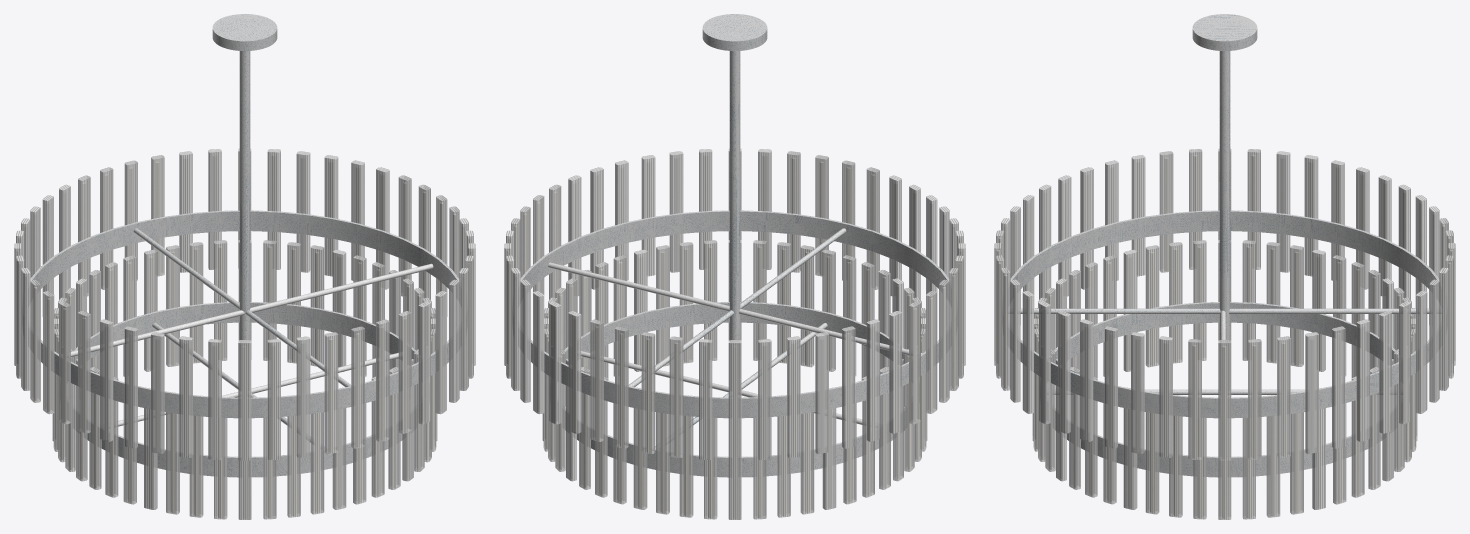
Rendered from chandelier.dae.
3 views of the same model, side by side, from view 1: azimuth 30°, elevation 25°; view 2: azimuth 150°, elevation 25°; view 3: azimuth 270°, elevation 25° (orthographic).
Visible parts, largest first — view 1: Component_1 (×103), group_4 (×2), group_7 (×2), group_8, group_0, group_10, group_9, group_3 (×2); view 2: Component_1 (×104), group_4 (×2), group_7 (×2), group_8, group_0, group_10, group_3 (×3), group_9; view 3: Component_1 (×111), group_4 (×2), group_7 (×2), group_8, group_3 (×4), group_0, group_10.
Boxes of the visible parts, x1,y1,x2,y2 form: Component_1 (×103): (16, 149, 473, 519); group_4 (×2): (30, 210, 459, 418); group_7 (×2): (74, 302, 415, 477); group_8: (239, 51, 250, 340); group_0: (71, 228, 433, 387); group_10: (212, 14, 277, 50); group_9: (118, 323, 398, 448); group_3 (×2): (329, 326, 384, 452); Component_1 (×104): (506, 149, 963, 519); group_4 (×2): (520, 210, 949, 418); group_7 (×2): (564, 302, 904, 477); group_8: (729, 51, 740, 340); group_0: (548, 228, 922, 387); group_10: (702, 14, 767, 50); group_3 (×3): (595, 326, 678, 456); group_9: (581, 323, 862, 448); Component_1 (×111): (996, 149, 1453, 519); group_4 (×2): (1008, 210, 1439, 418); group_7 (×2): (1054, 302, 1395, 477); group_8: (1219, 51, 1230, 340); group_3 (×4): (1192, 343, 1286, 459); group_0: (1020, 308, 1429, 339); group_10: (1192, 14, 1257, 50).
Bounding box in the file's own units: 42.72 × 42.72 × 42.
